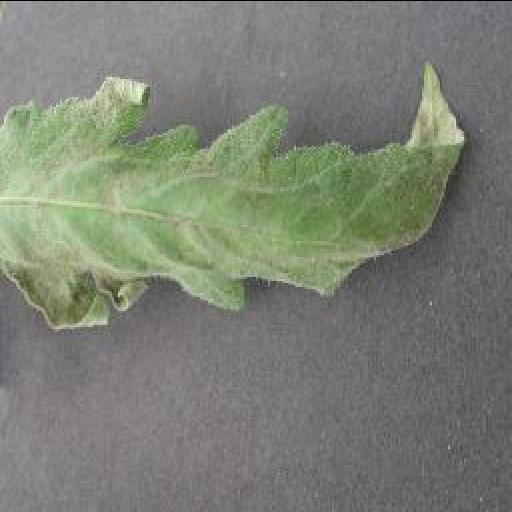disease_tomato: (0, 58, 468, 328)
